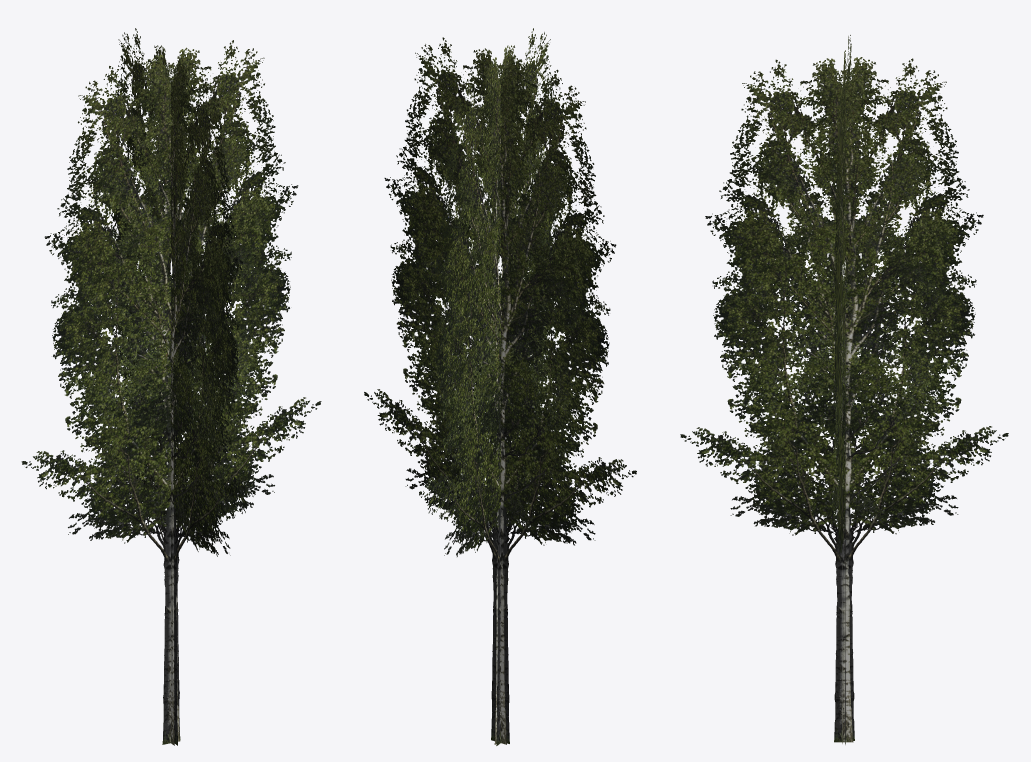
The model's file is SM_Tree_Leaves_01.fbx.
3 renders of one model, left to right at view 1: azimuth 30°, elevation 25°; view 2: azimuth 150°, elevation 25°; view 3: azimuth 270°, elevation 25°, orthographic.
Visible parts, largest first — view 1: SM_Tree_Leaves_01; view 2: SM_Tree_Leaves_01; view 3: SM_Tree_Leaves_01.
Part boxes in pixels (x1=…): SM_Tree_Leaves_01: x1=21, y1=28, x2=321, y2=745; SM_Tree_Leaves_01: x1=364, y1=28, x2=636, y2=745; SM_Tree_Leaves_01: x1=680, y1=35, x2=1008, y2=744.
Bounding box in the file's own units: 718 × 1611 × 720.
